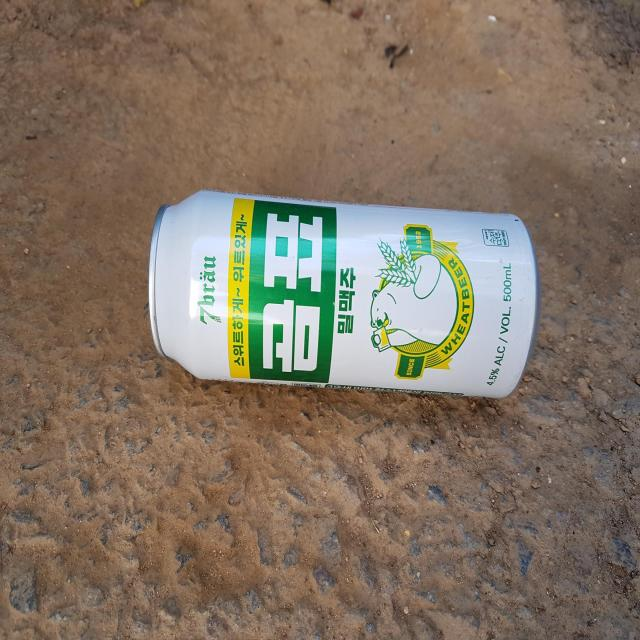can: (148, 190, 541, 398)
